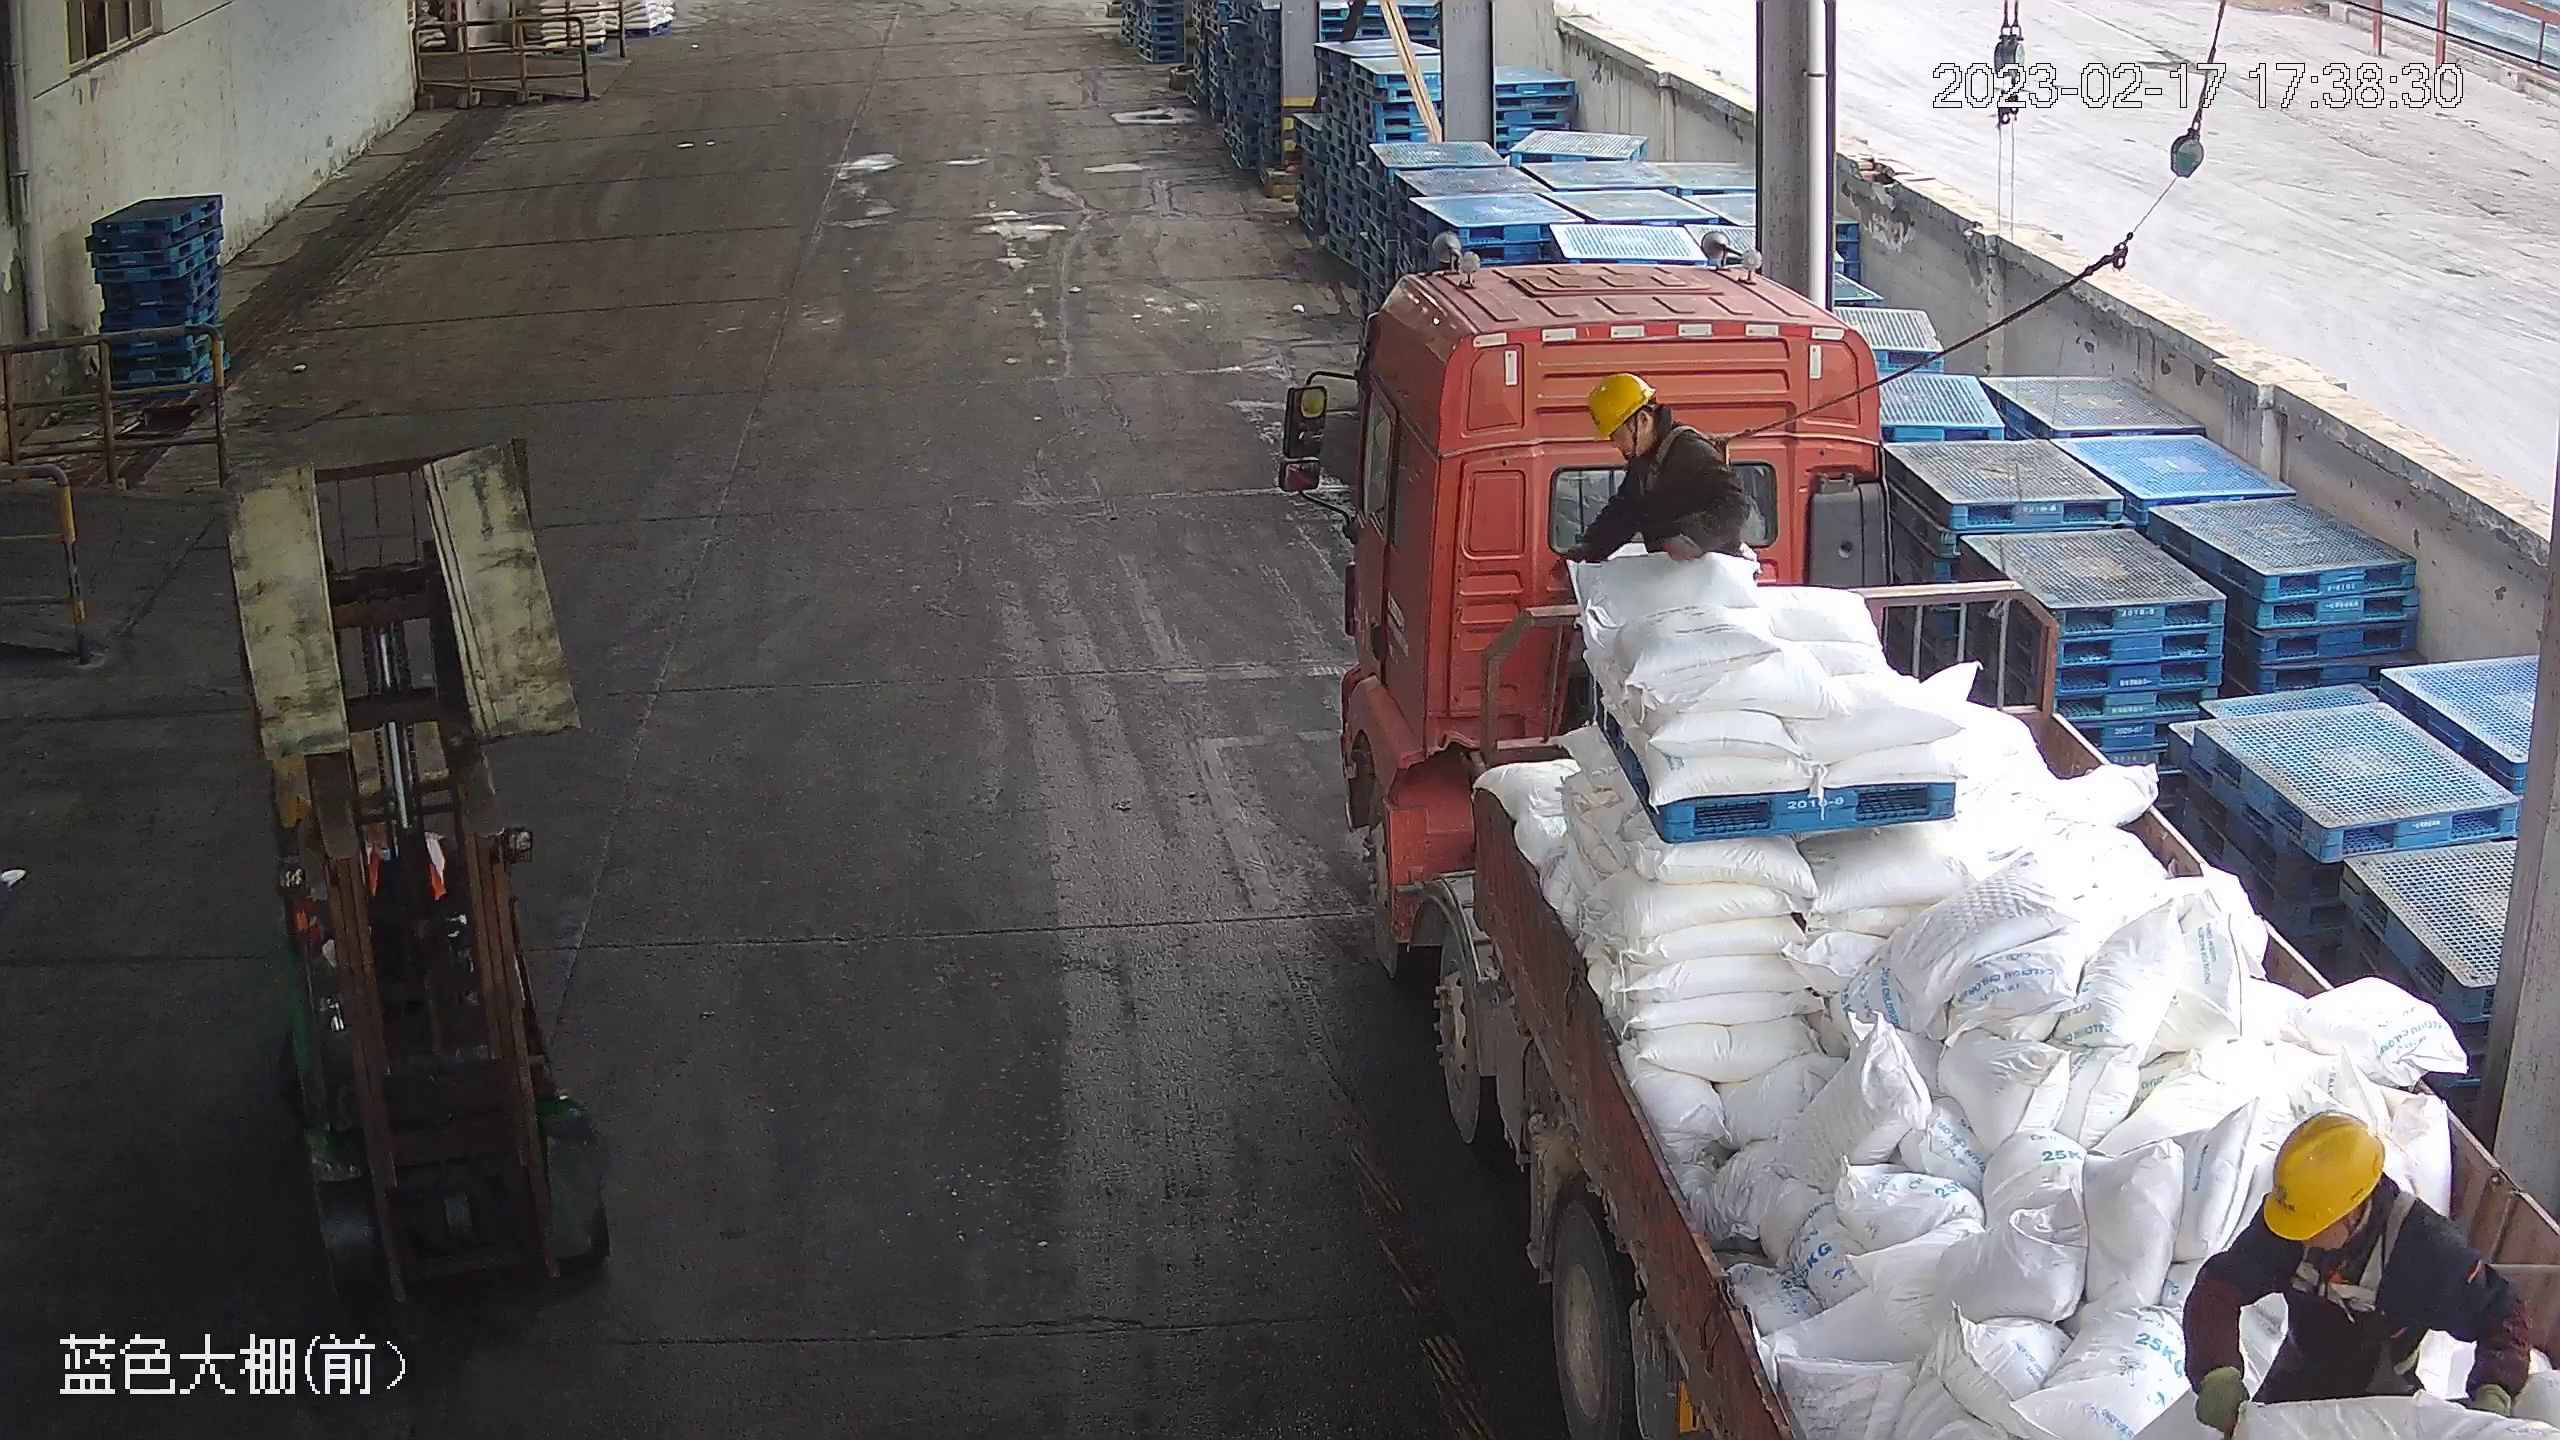belt: (2290, 1187, 2430, 1322), (1645, 417, 1733, 476)
head: (2240, 1108, 2472, 1310), (1581, 366, 1717, 493)
helmet: (2262, 1109, 2387, 1239), (1584, 367, 1657, 441)
truck: (1288, 255, 2559, 1440)
